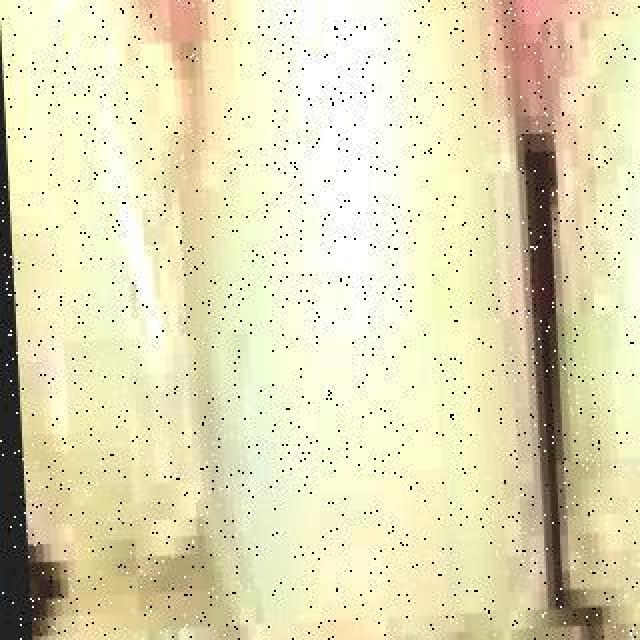spacing: (435, 80, 625, 614)
